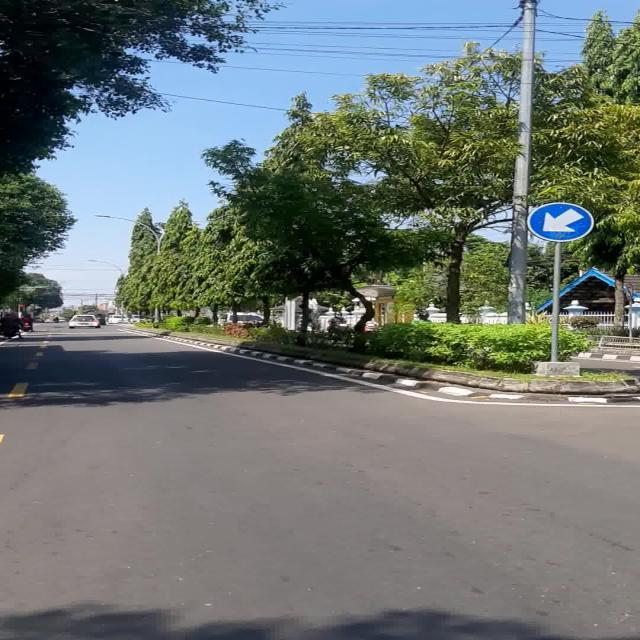Lajur Kiri: (527, 202, 594, 242)
